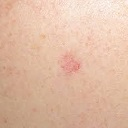Carcinoma: (59, 56, 82, 80)
